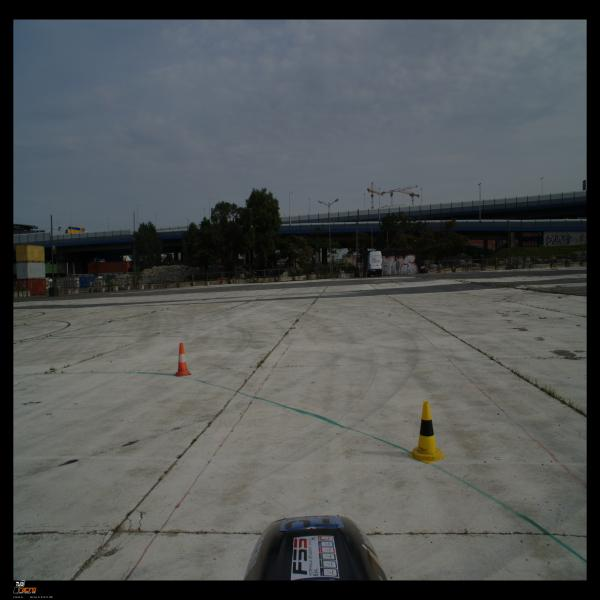orange_cone: (173, 342, 192, 376)
yellow_cone: (408, 401, 446, 464)
